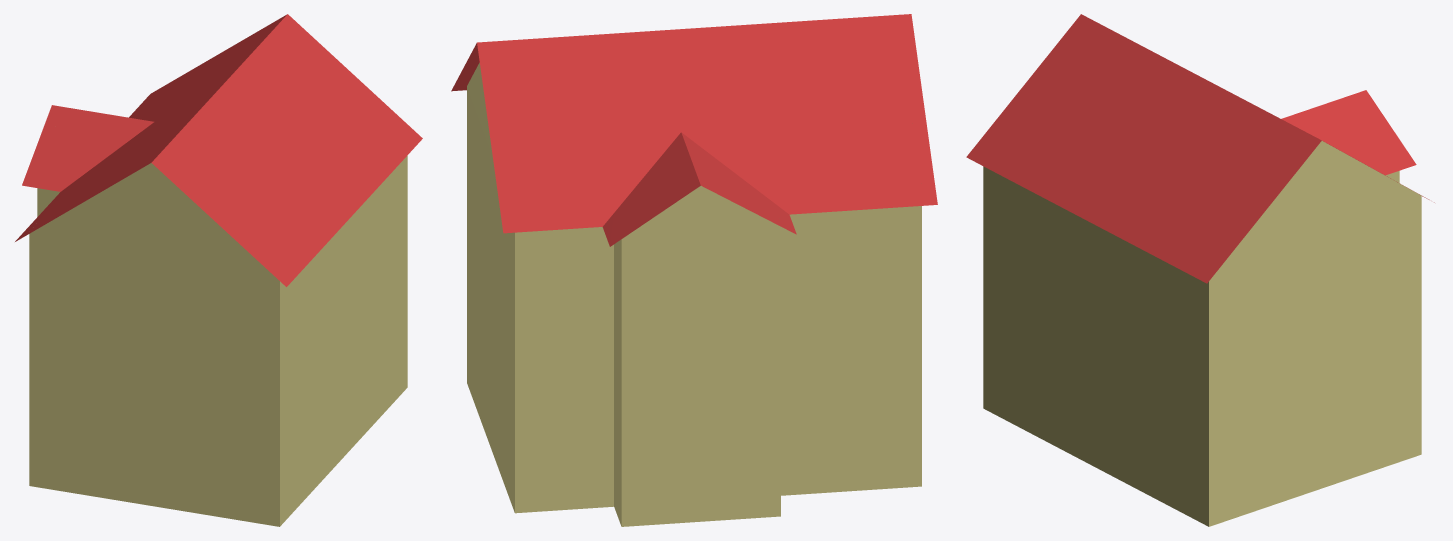
3 views of the same model, side by side, from view 1: azimuth 30°, elevation 25°; view 2: azimuth 150°, elevation 25°; view 3: azimuth 270°, elevation 25° (orthographic). The views are drawn at different scales.
Bounding box in the file's own units: 20.1 × 19.55 × 16.18.
